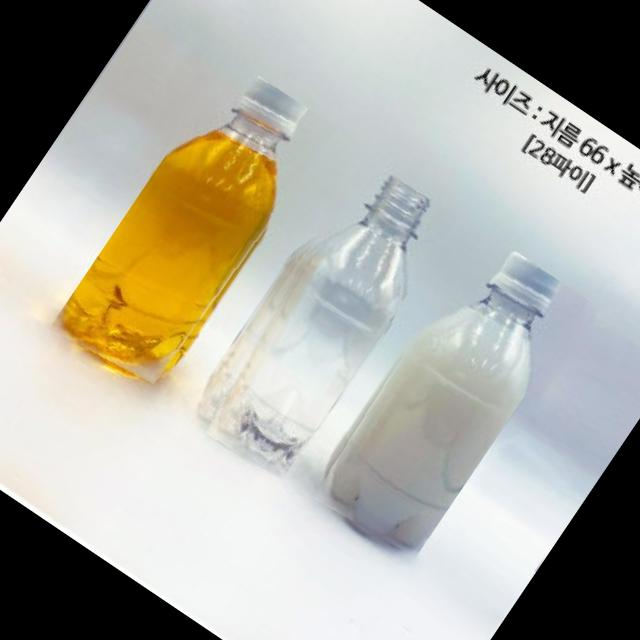plastic bottle: (48, 58, 338, 402), (304, 230, 588, 565), (184, 154, 458, 484)
